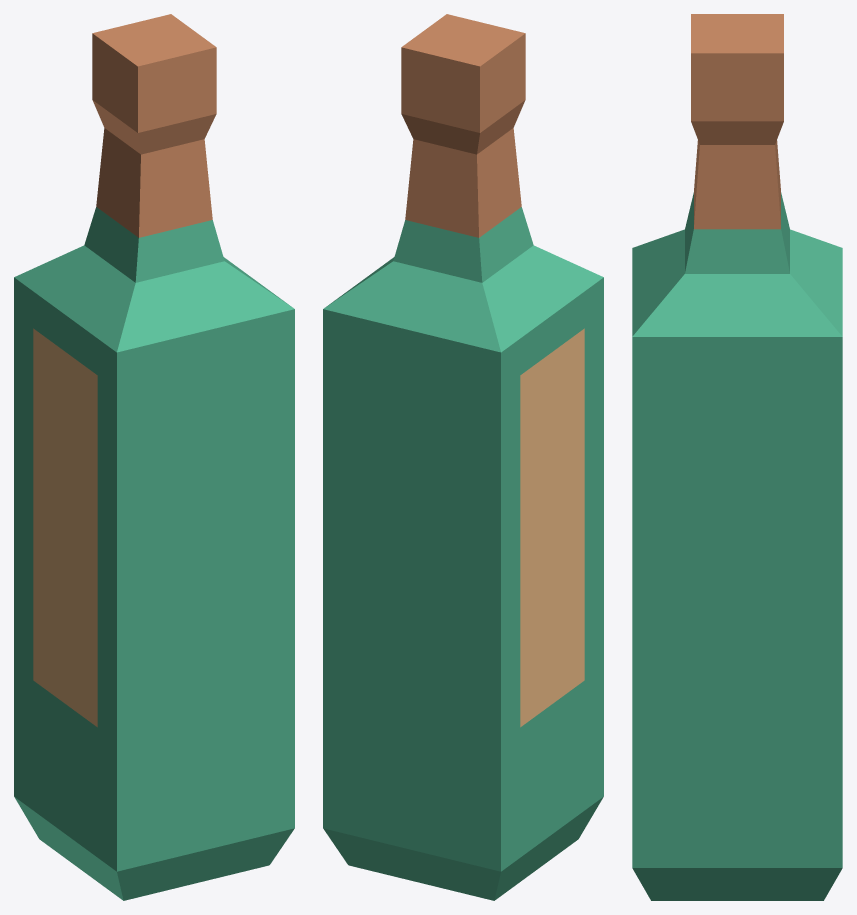
File: bottleOil.obj
3 renders of one model, left to right at view 1: azimuth 30°, elevation 25°; view 2: azimuth 150°, elevation 25°; view 3: azimuth 270°, elevation 25°, orthographic. The views are drawn at different scales.
Visible parts, largest first — view 1: bottleOil; view 2: bottleOil; view 3: bottleOil.
Boxes of the visible parts, <box> form: bottleOil: <box>14,14,294,900</box>; bottleOil: <box>323,14,603,900</box>; bottleOil: <box>632,14,842,900</box>.
Bounding box in the file's own units: 0.14 × 0.61 × 0.14.
